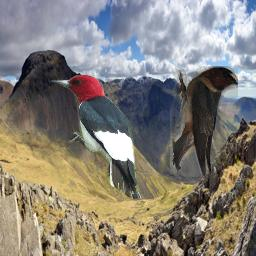Swallow: (170, 66, 238, 178)
Woodpecker: (49, 74, 144, 199)
